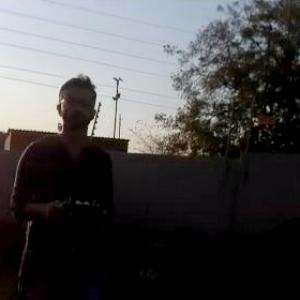follow: (6, 66, 125, 299)
